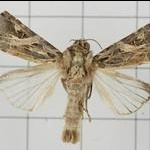Spodoptera litura: (0, 10, 149, 144)
